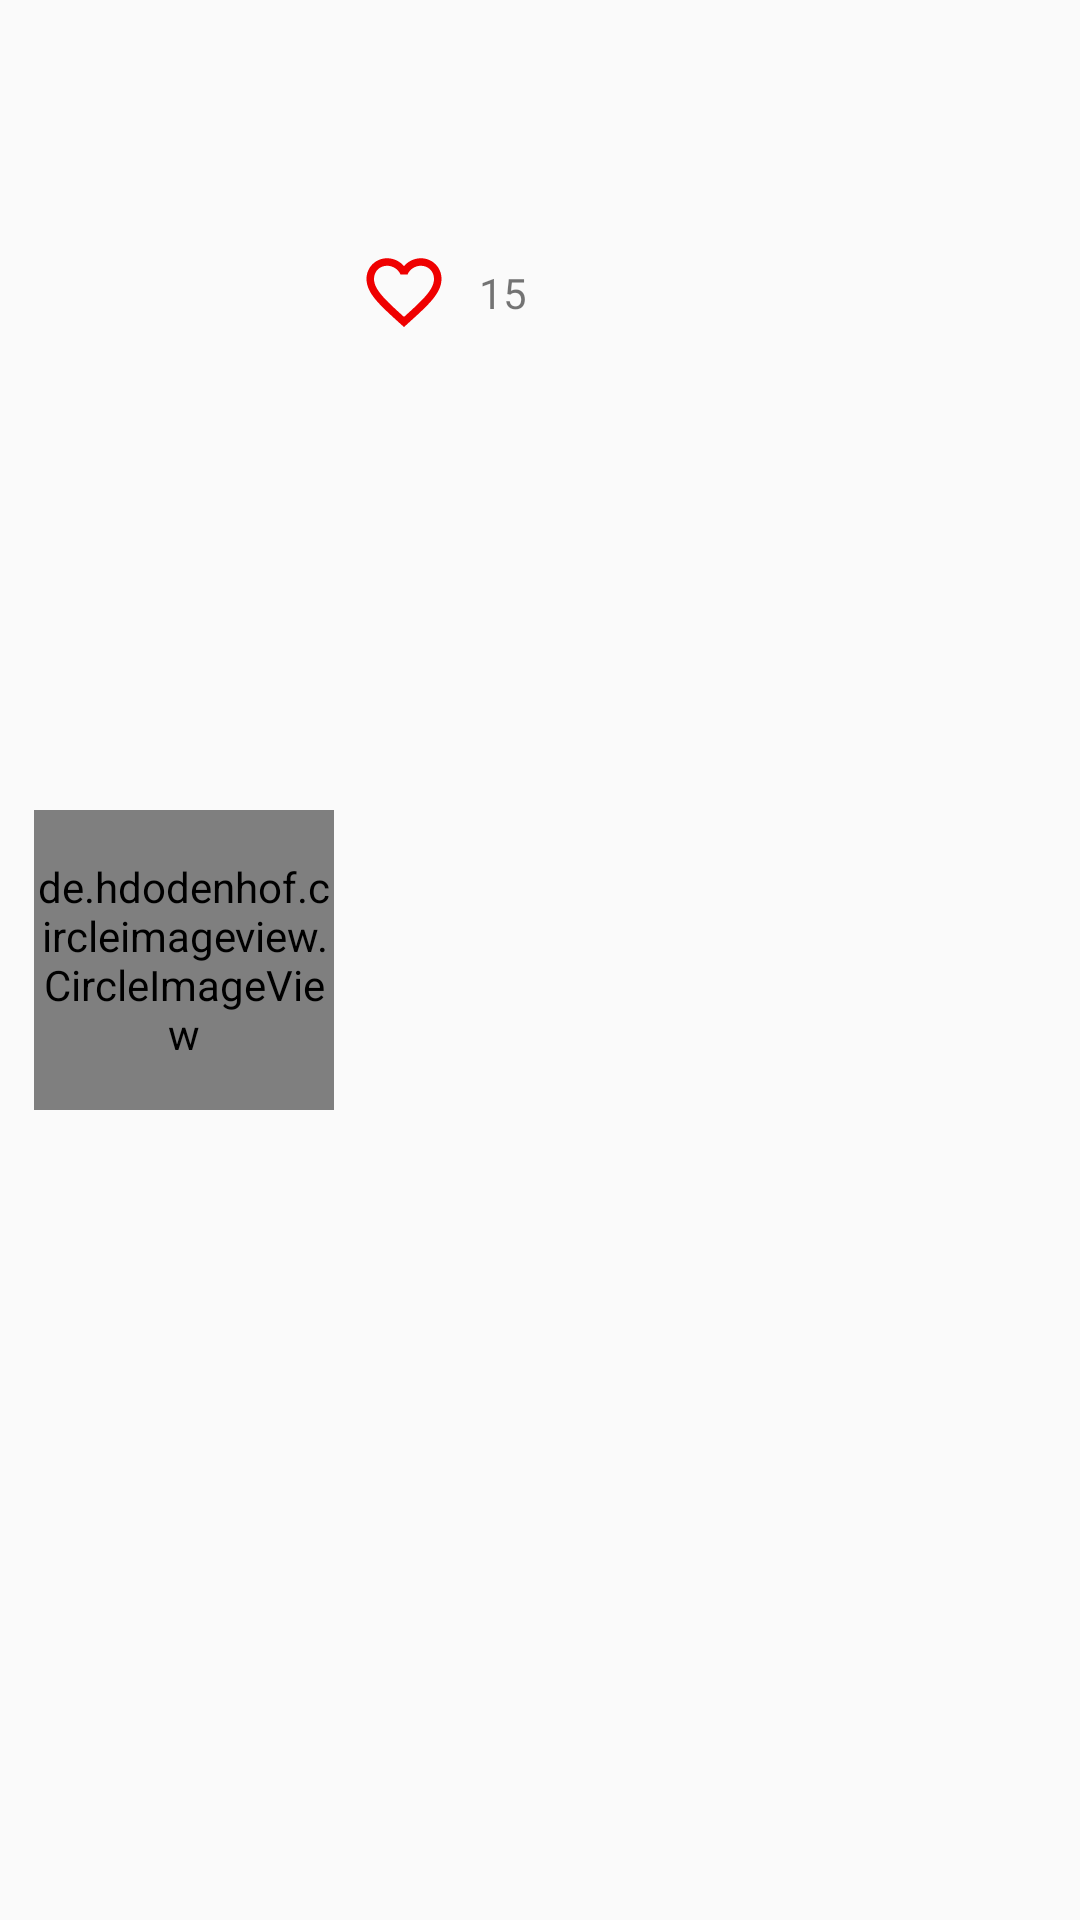

Icons on this 1080w x 1920h Android screen, each with its box as rect(x1, y1, x2, y2):
empty heart: rect(366, 258, 442, 327)
